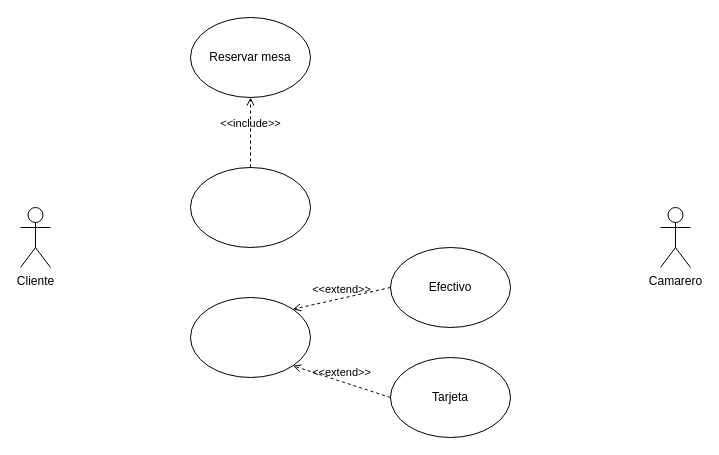
This 719x455 diagram has some shape labels left out. Here are the shapes that lost their labels. From the top down, the box of each, then its label:
(190, 166, 310, 248): Pedir
(190, 296, 310, 378): Pagar
